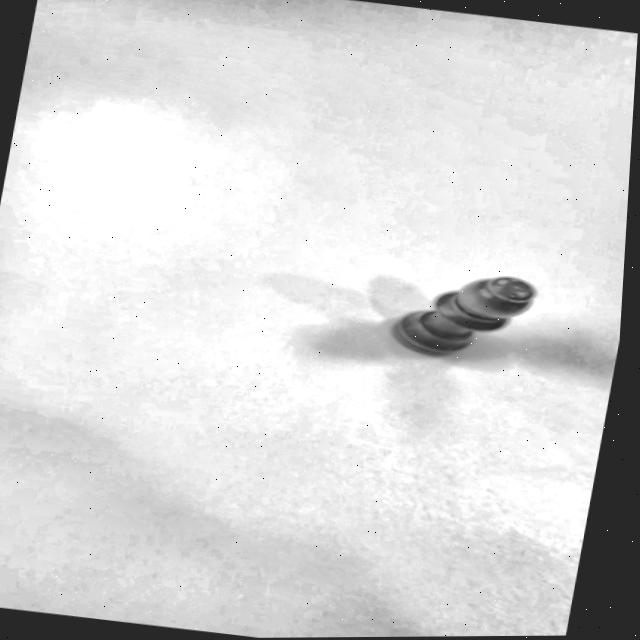black-bishop: (376, 250, 548, 372)
